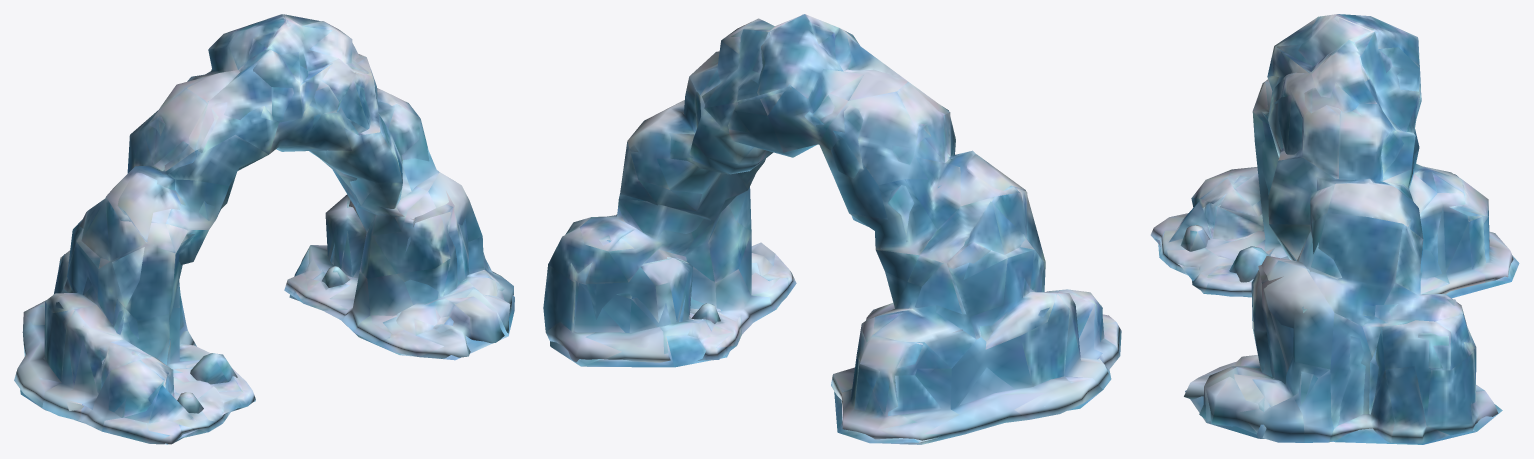
File: ice_arch_1_low.glb
3 views of the same model, side by side, from view 1: azimuth 30°, elevation 25°; view 2: azimuth 150°, elevation 25°; view 3: azimuth 270°, elevation 25° (orthographic). The views are drawn at different scales.
Parts seen in each view (by area): view 1: Mesh_0.007; view 2: Mesh_0.007; view 3: Mesh_0.007.
Boxes of the visible parts, bbox=[...] form: Mesh_0.007: bbox=[14, 14, 514, 444]; Mesh_0.007: bbox=[543, 14, 1121, 444]; Mesh_0.007: bbox=[1150, 14, 1519, 444].
Bounding box in the file's own units: 1 × 0.6386 × 0.6523.
Materials: 1 (1 with a texture image).
